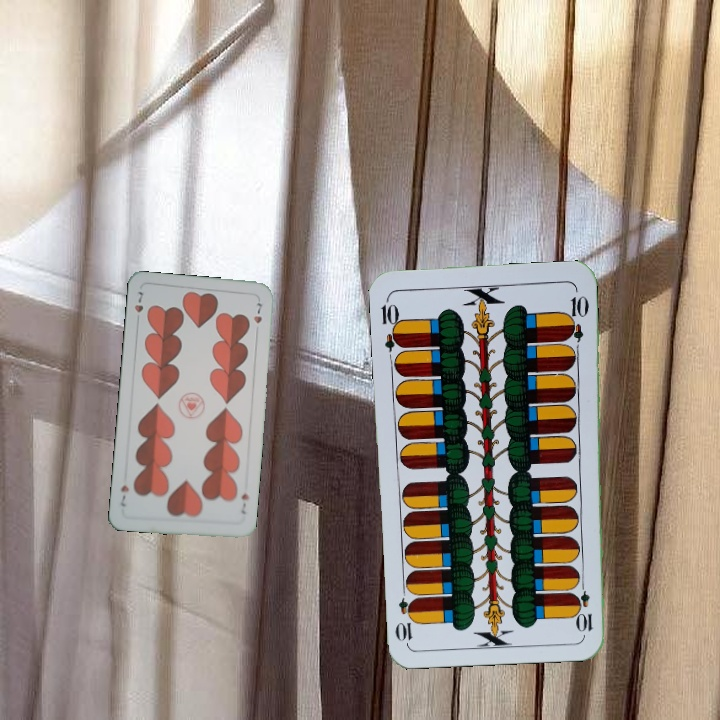E10: (377, 294, 405, 353), (575, 575, 595, 635)
H7: (130, 288, 146, 326), (236, 489, 251, 517)
